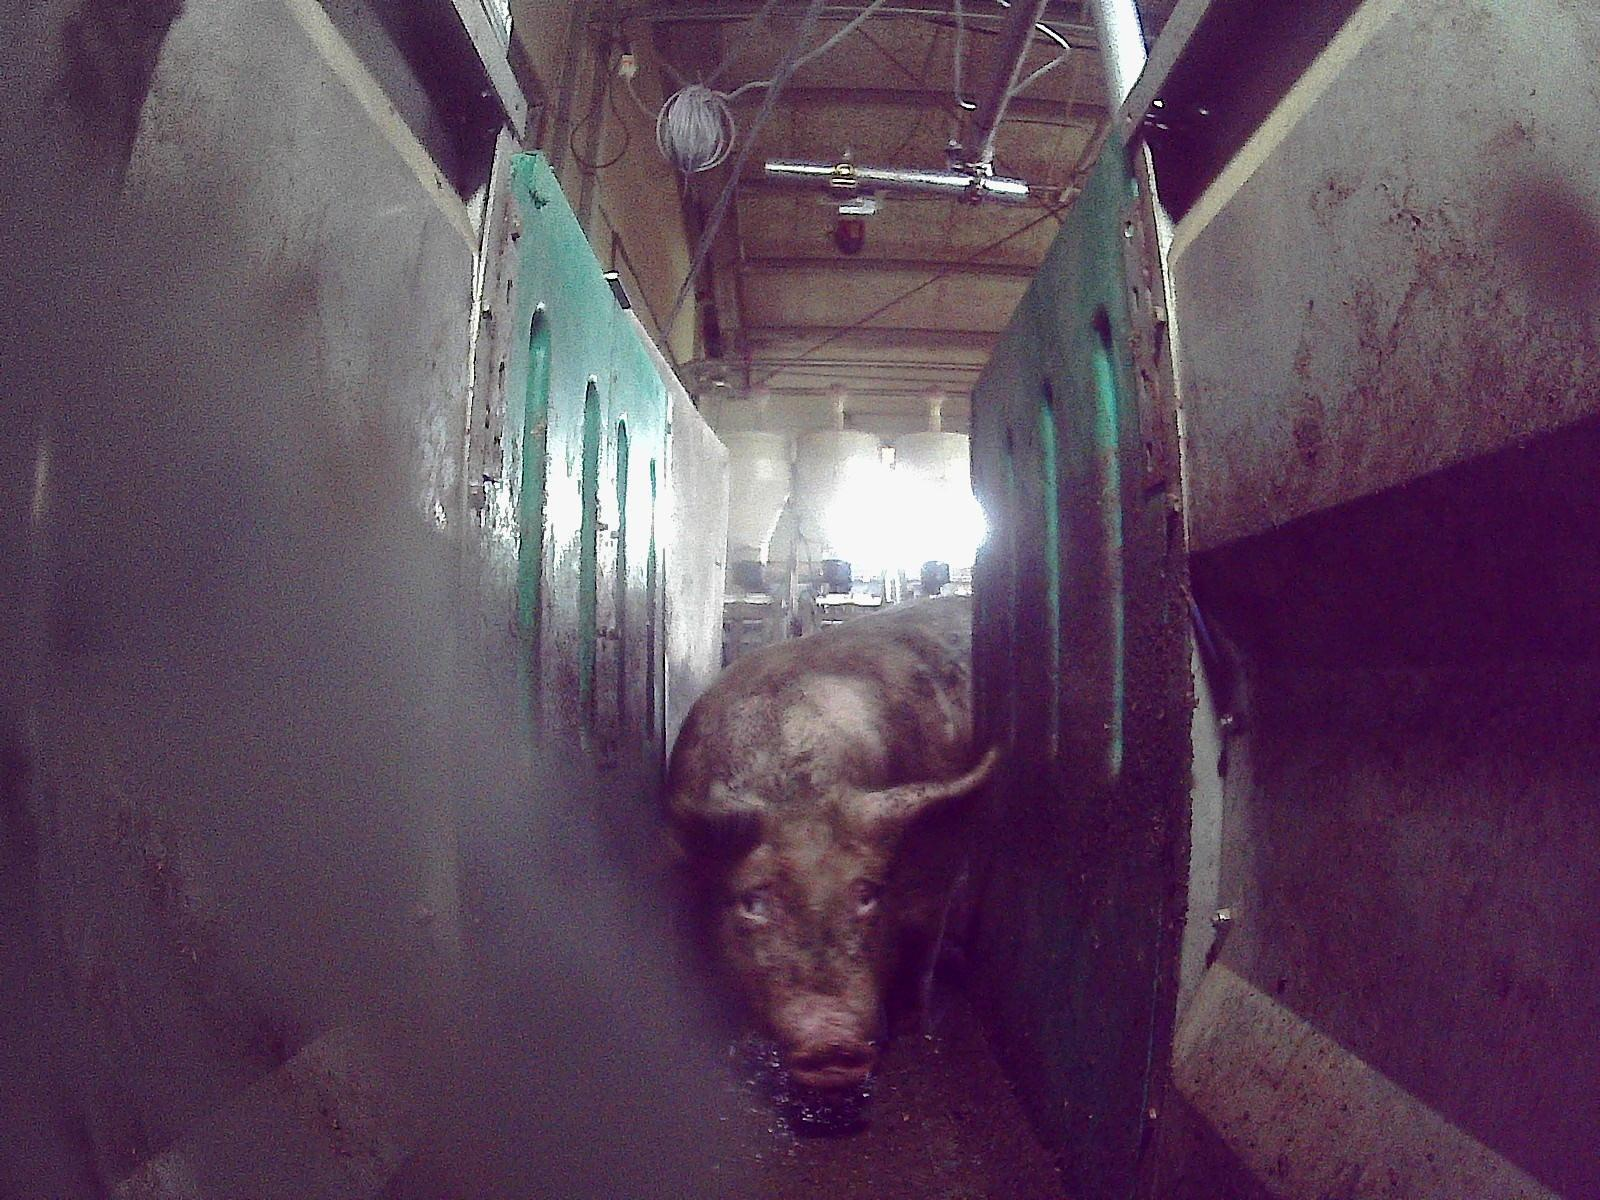Face: (705, 809, 894, 1083)
